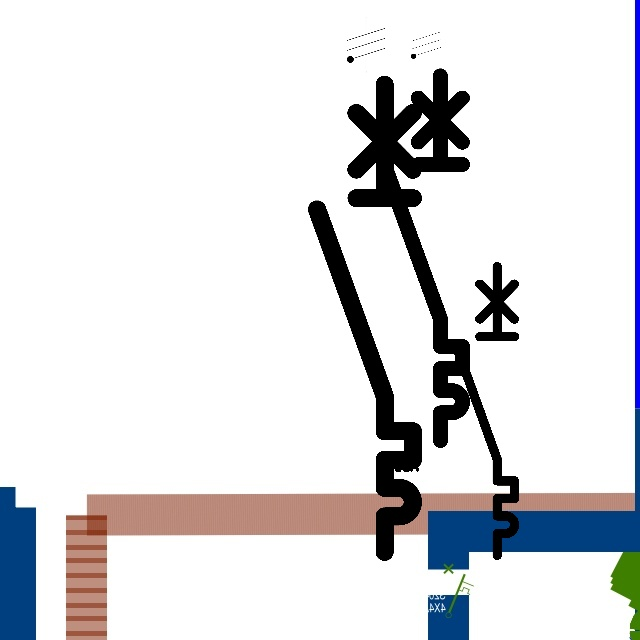interruptor_termomagnetico: (305, 72, 425, 563), (378, 66, 472, 450), (448, 259, 522, 563)
